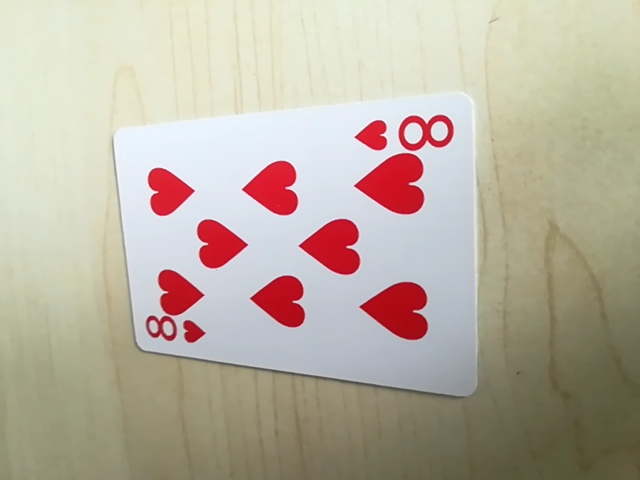hx 8: (356, 105, 461, 157), (140, 314, 206, 352)
